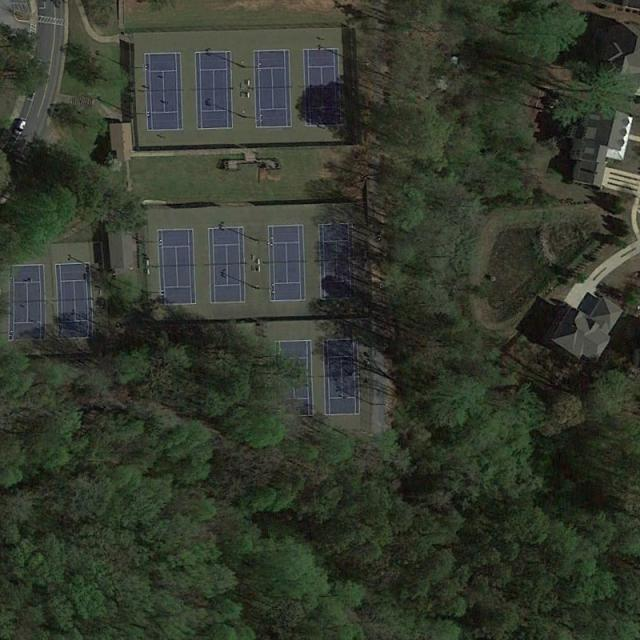vehicle: (16, 121, 27, 134)
